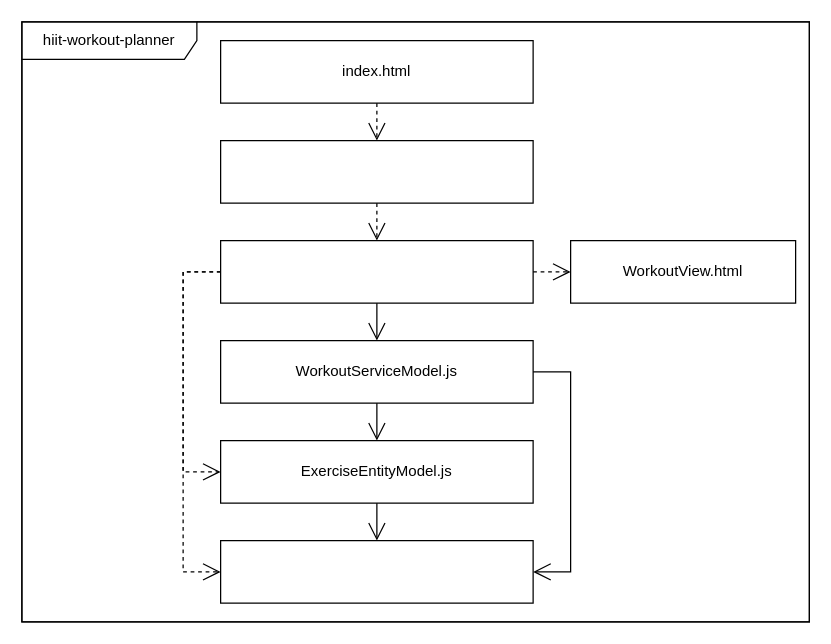
The diagram is 831 pixels wide and 644 high, and some of its shapes have lost their labels. Each missing label, with the centre of its shape:
App.js: point 376,171
ExerciseCategoryValueModel.js: point 376,571
WorkoutController.js: point 376,271
